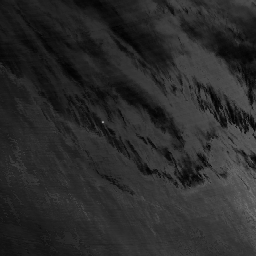Target: (100, 119, 105, 125)
